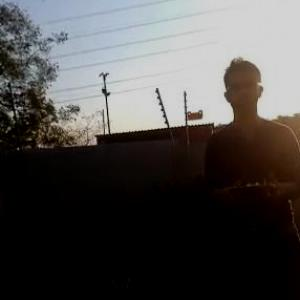follow: (201, 46, 300, 299)
